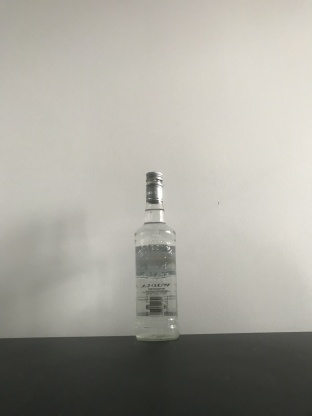nakretka: (144, 169, 164, 204)
